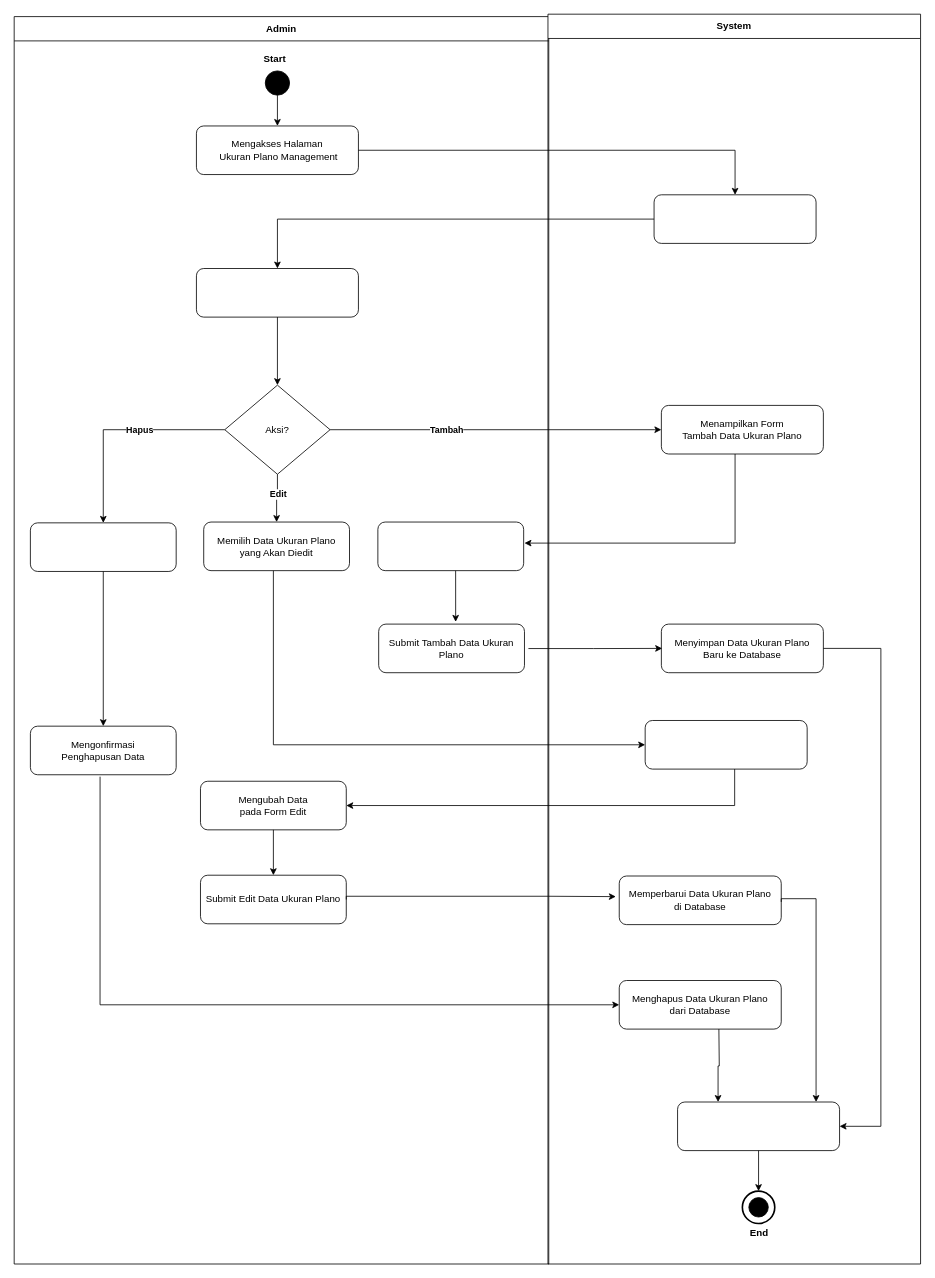
Image size: 935x1278. Some labels were removed from this diagram. Here are the shapes that lost their labels. From the top down, the centre of each, then its label:
pixel 734 218: Menampilkan Daftar Data Ukuran Plano
pixel 277 292: Memilih Aksi
pixel 103 546: Memilih Data Ukuran Plano yang Akan Dihapus
pixel 450 546: Mengisi Form Tambah Data Ukuran Plano
pixel 725 744: Menampilkan Form Edit Data Ukuran Plano
pixel 758 1126: Menampilkan Notifikasi Berhasil
